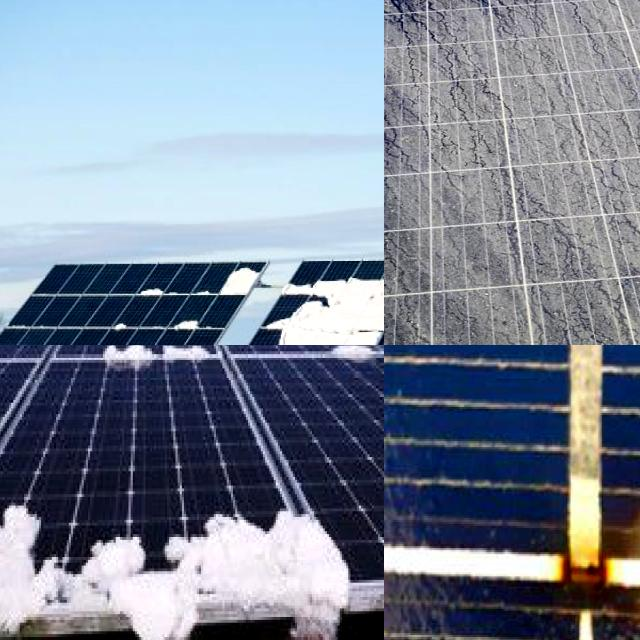dust: (384, 0, 640, 345), (464, 0, 640, 38), (384, 0, 485, 41), (384, 238, 413, 345)
panel: (92, 467, 362, 640), (0, 478, 90, 640), (96, 345, 215, 390), (282, 275, 384, 318), (236, 345, 384, 373), (85, 345, 224, 369), (215, 258, 268, 311), (265, 321, 377, 345), (127, 270, 206, 304), (323, 345, 384, 377), (196, 345, 287, 366), (156, 311, 228, 336), (109, 345, 189, 365), (0, 345, 77, 365), (0, 345, 89, 362), (305, 345, 359, 372), (96, 309, 148, 336), (0, 345, 23, 364), (0, 345, 11, 365)
shadow: (539, 477, 640, 640)
